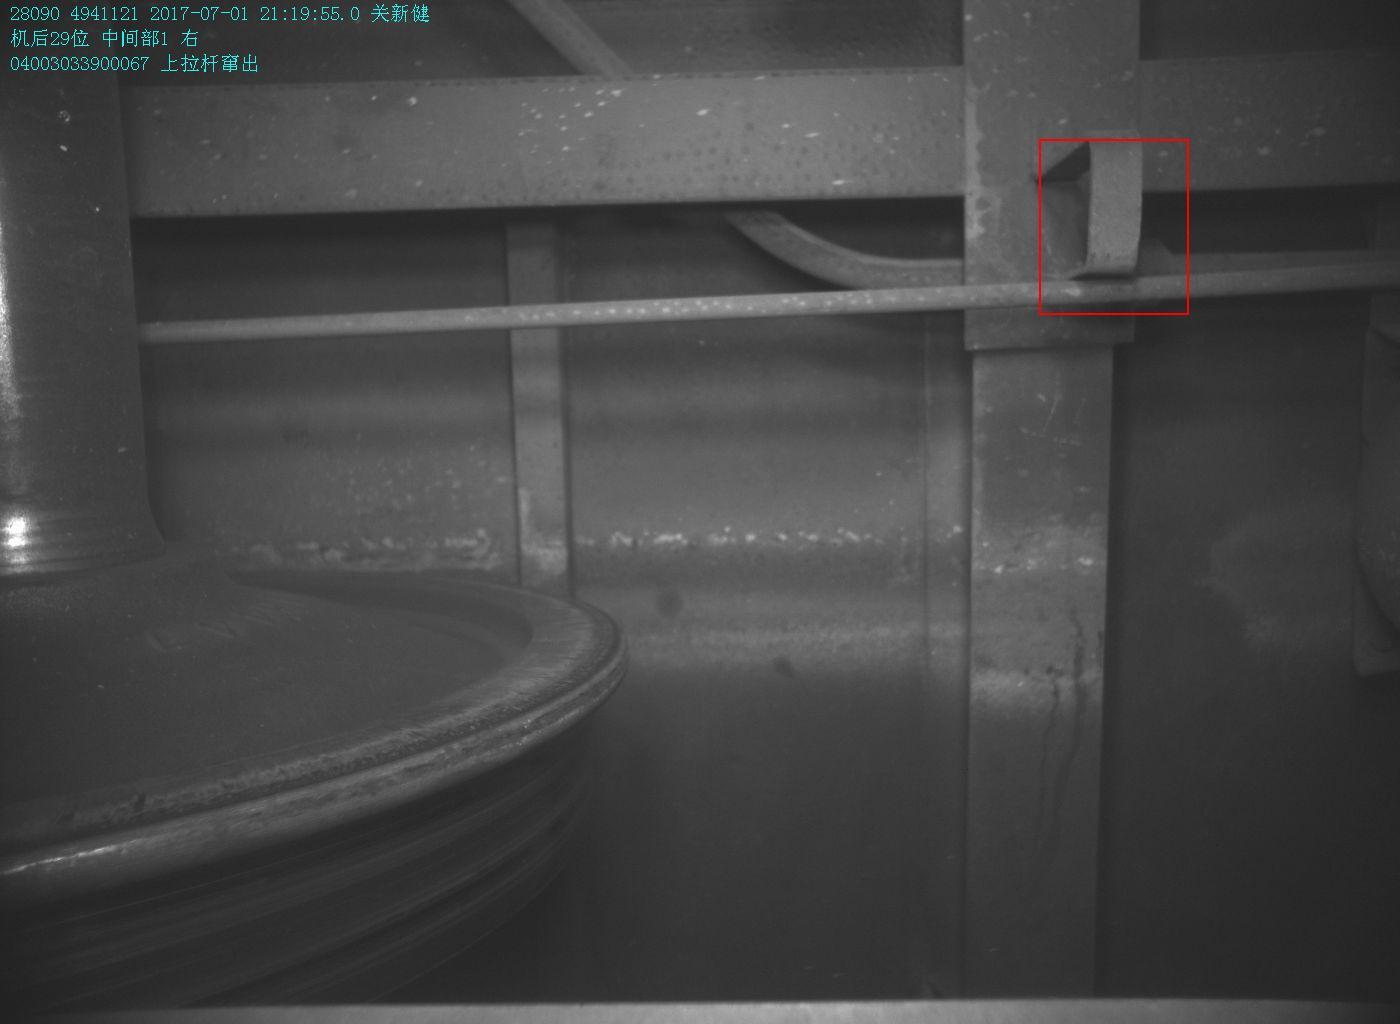upper lever: (1036, 128, 1141, 304)
